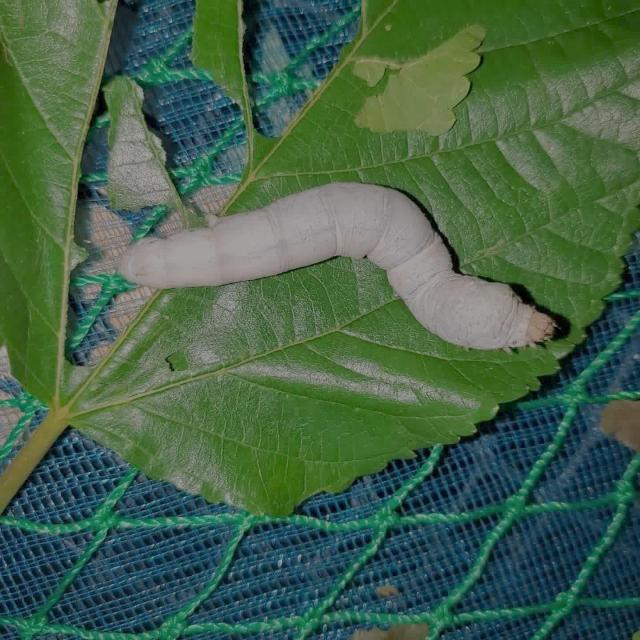Healthy: (84, 127, 576, 396)
